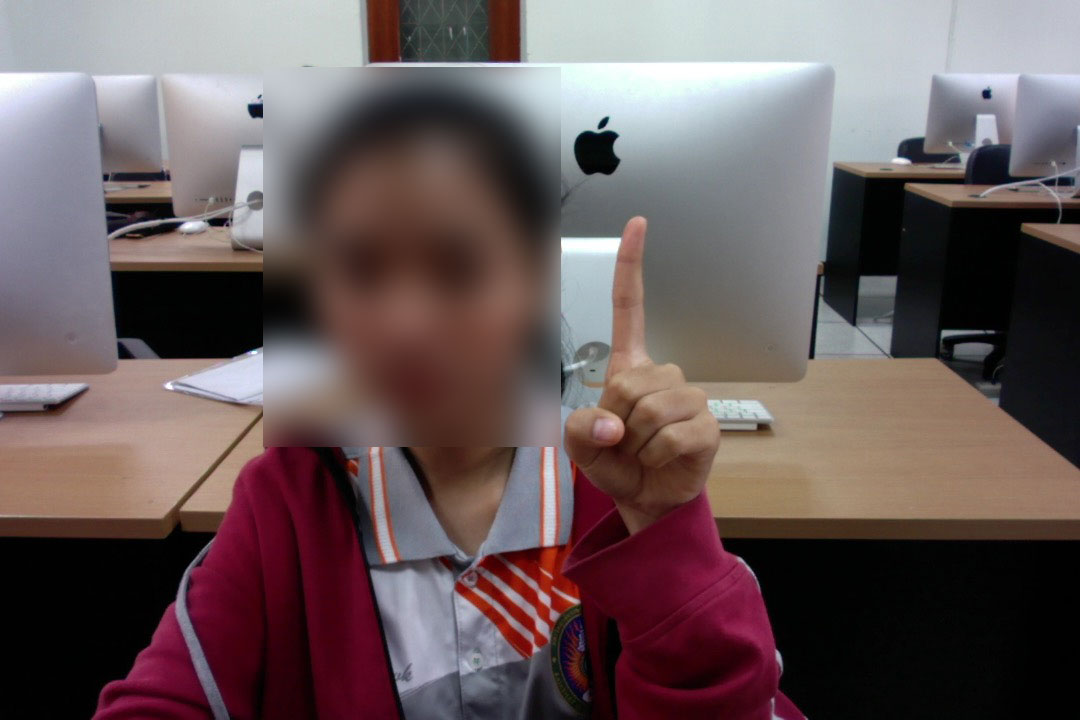lor: (552, 205, 751, 542)
